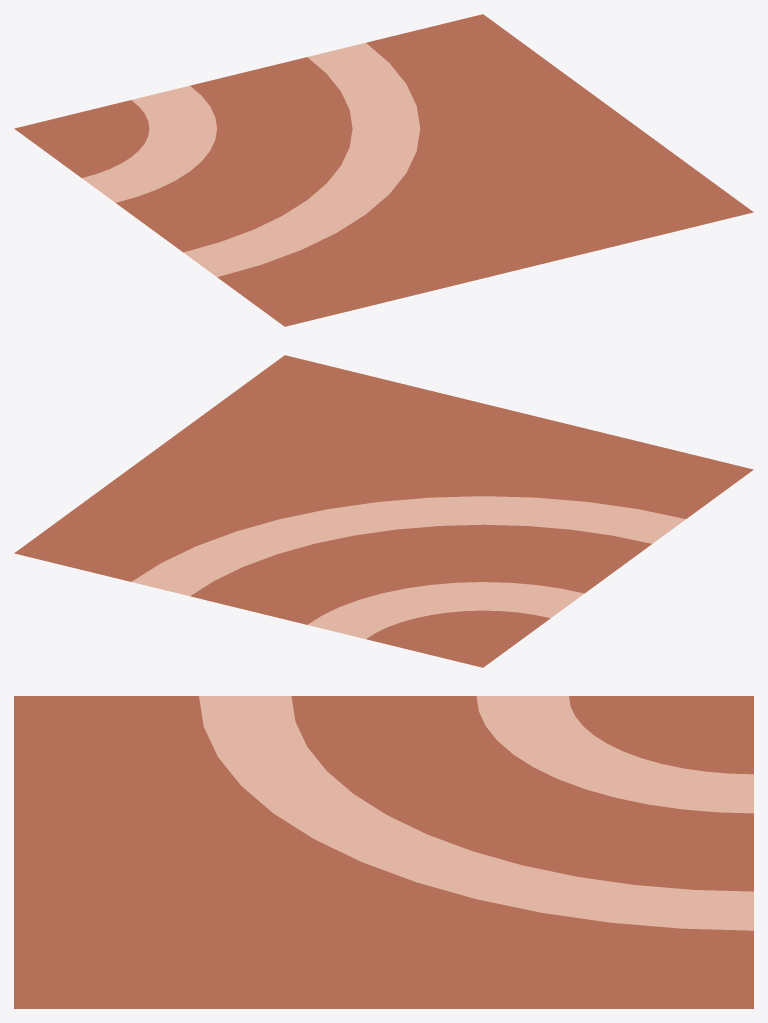
File: terrain_roadCorner.glb
3 views of the same model, one above another, from view 1: azimuth 30°, elevation 25°; view 2: azimuth 150°, elevation 25°; view 3: azimuth 270°, elevation 25° (orthographic). The views are drawn at different scales.
Parts seen in each view (by area): view 1: terrain_roadCorner; view 2: terrain_roadCorner; view 3: terrain_roadCorner.
Part boxes in pixels (x1,y1,x2,y2): terrain_roadCorner: (14, 14, 753, 326); terrain_roadCorner: (14, 355, 753, 667); terrain_roadCorner: (14, 696, 753, 1008).
Bounding box in the file's own units: 1.3 × 0 × 1.3.
